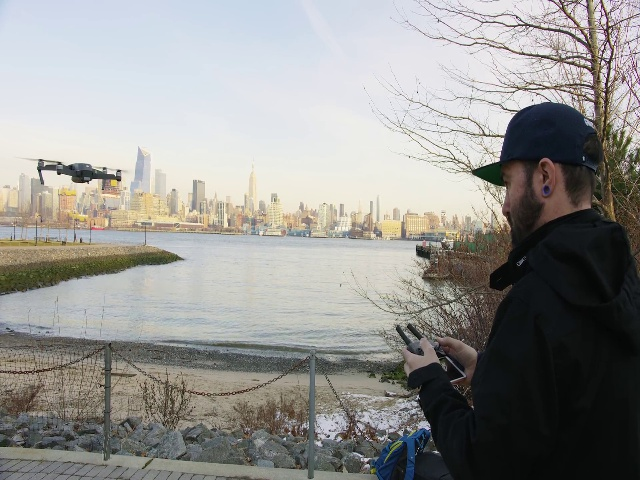drone: (17, 151, 134, 190)
